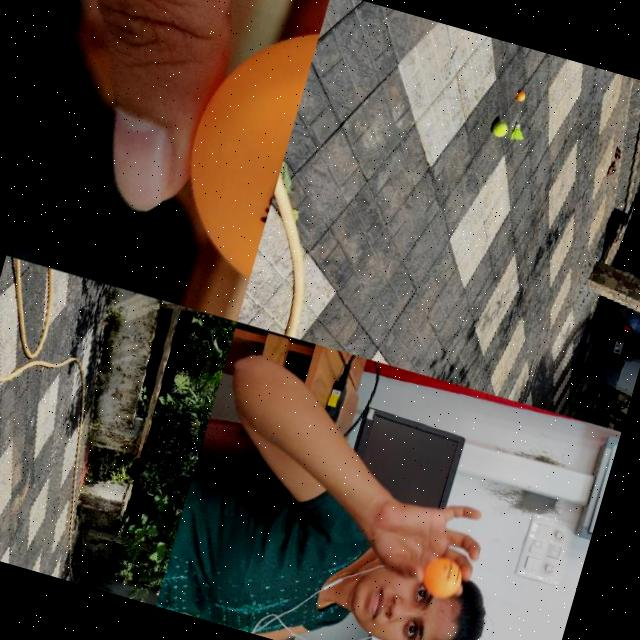ping-pong-ball: (160, 2, 321, 286), (421, 554, 465, 600), (516, 91, 528, 101)
